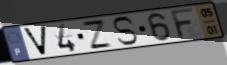4: (57, 23, 78, 53)
6: (146, 12, 172, 42)
F: (169, 7, 196, 41)
S: (112, 16, 140, 47)
V: (21, 25, 49, 57)
Z: (80, 19, 115, 50)
